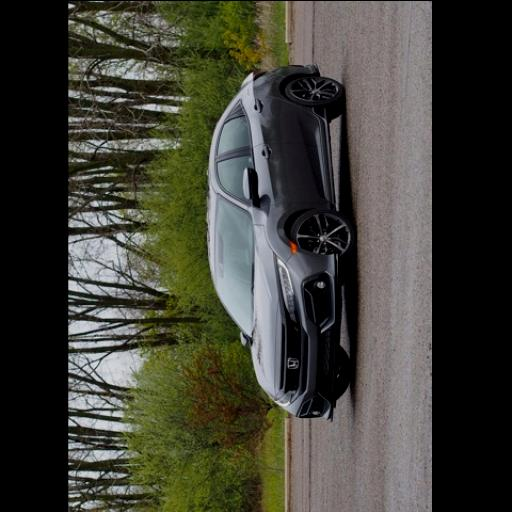sedan: (208, 65, 355, 421)
